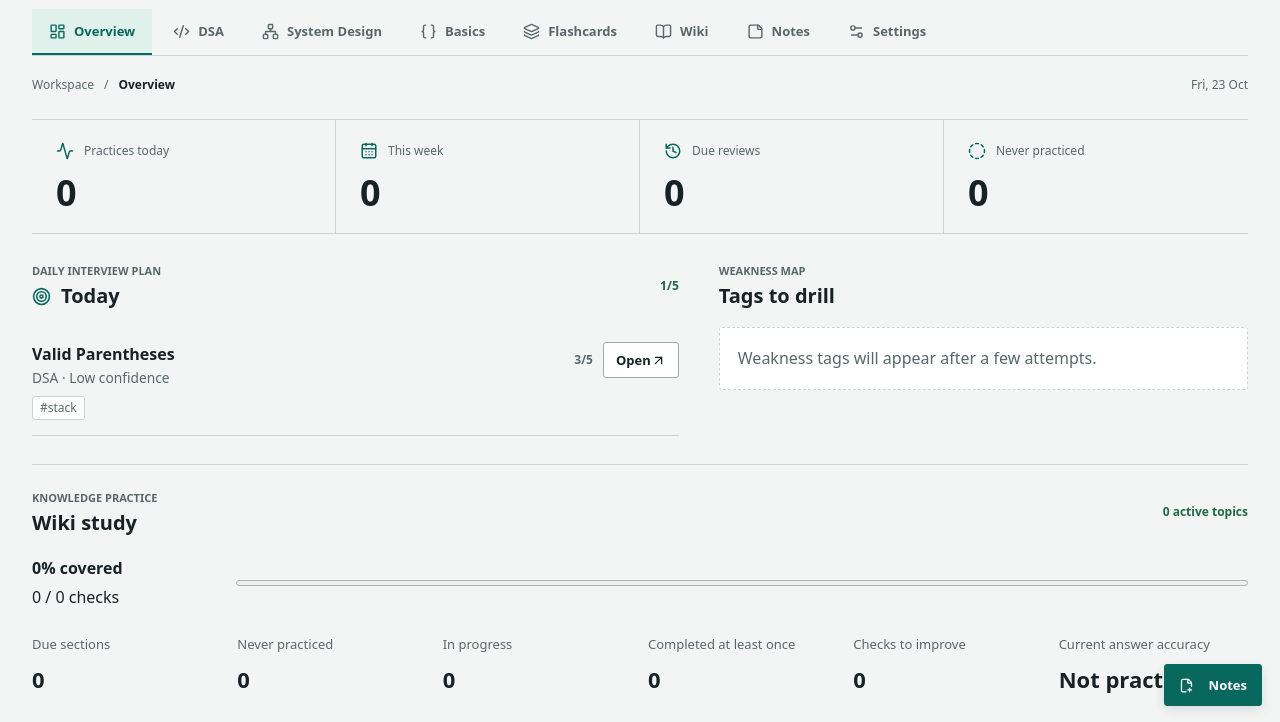
App › opens a daily plan item from Overview
The image size is (1280, 722).
Expected: the text "Valid Parentheses" is shown, [32,342,175,367]
Click the button "Open" at (641, 360), box [603,342,679,378]
(page scrolled)
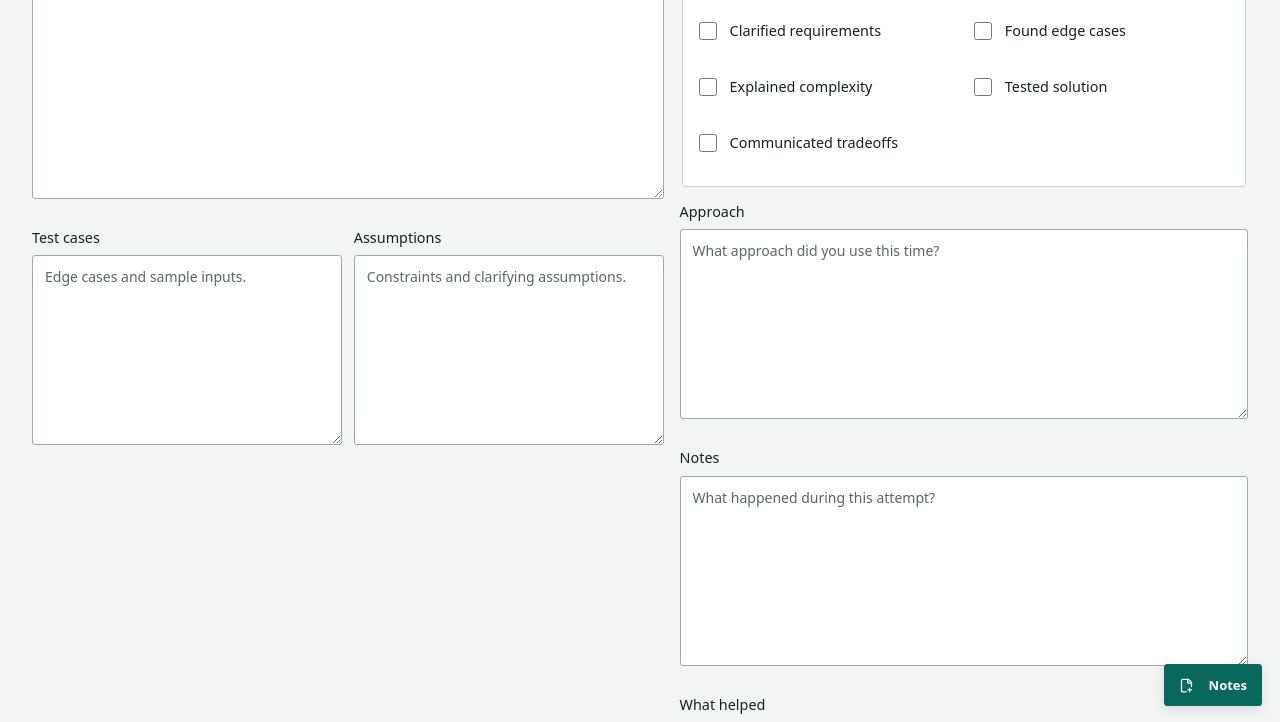
Expected: the text box labelled "Approach" is shown, [680,229,1248,419]
